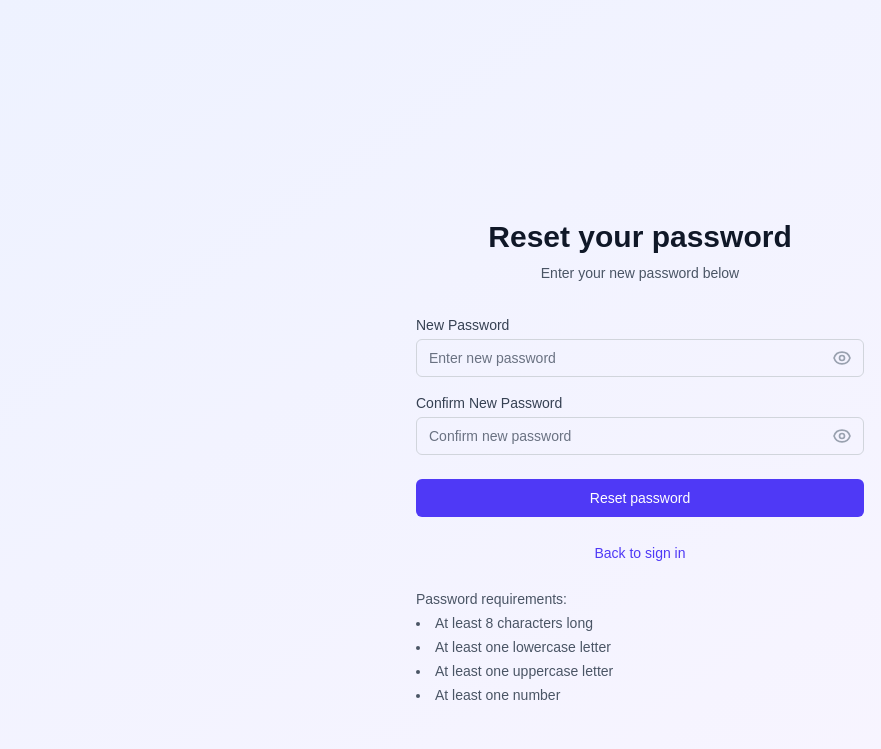
it: ResetPasswordForm › shows password mismatch error
The image size is (881, 749).
Type "password123" into the password field labelled "New Password" at (640, 358), box [416,339,864,377]
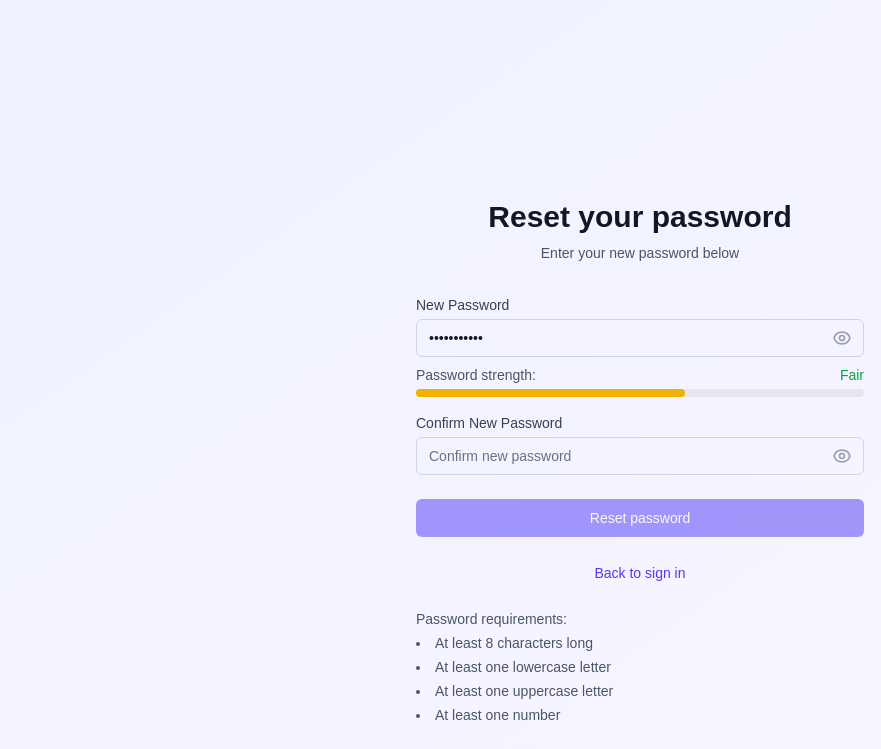
Type "different123" into the password field labelled "Confirm New Password" at (640, 456), box [416,437,864,475]
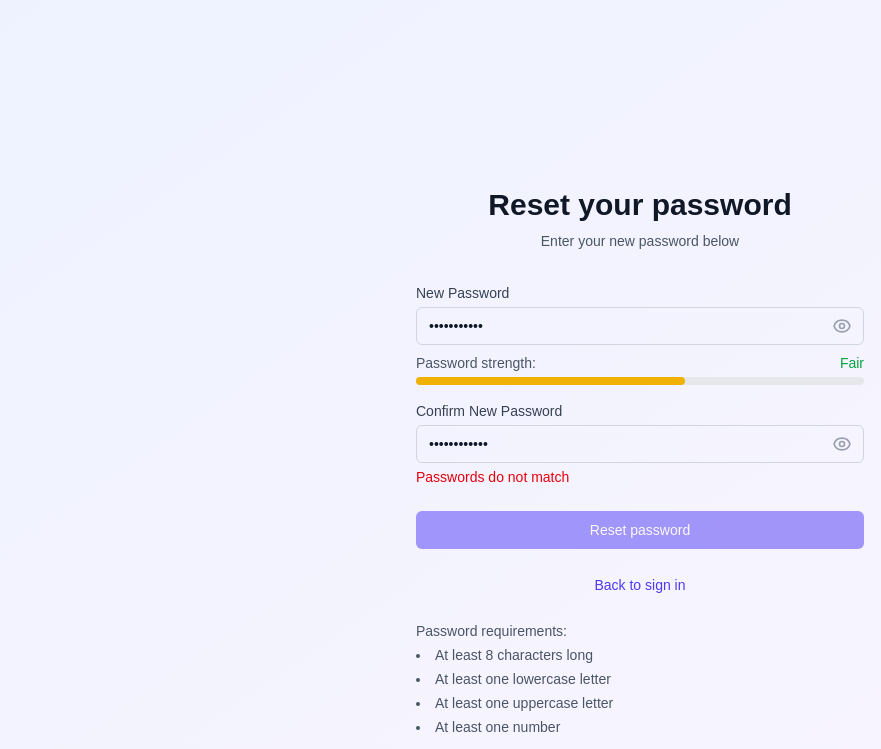
Check: the text "Passwords do not match" is shown, box [416,469,569,485]
